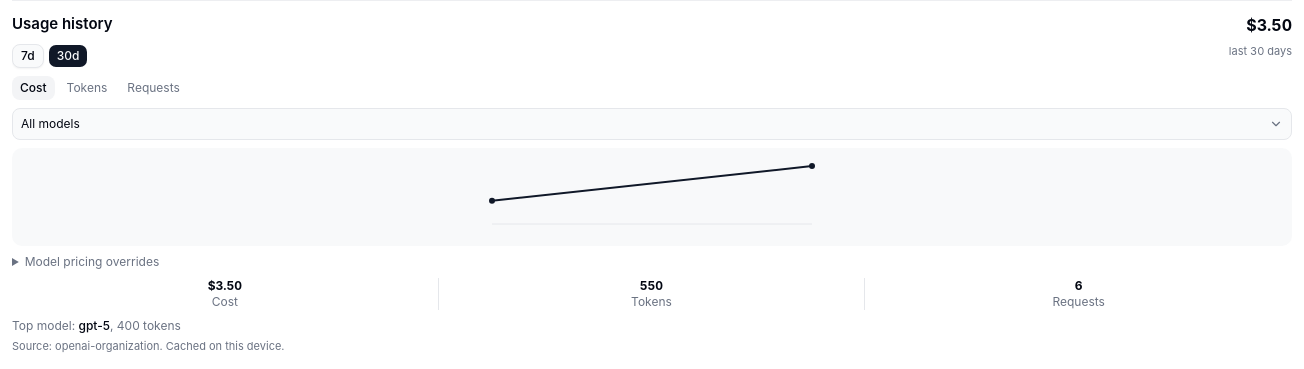
Test: UsageReport › shows a useful empty state and offers a longer period when the range has no activity
Click the button "7d". click: (28, 56)
box: x1=12 y1=44 x2=44 y2=68
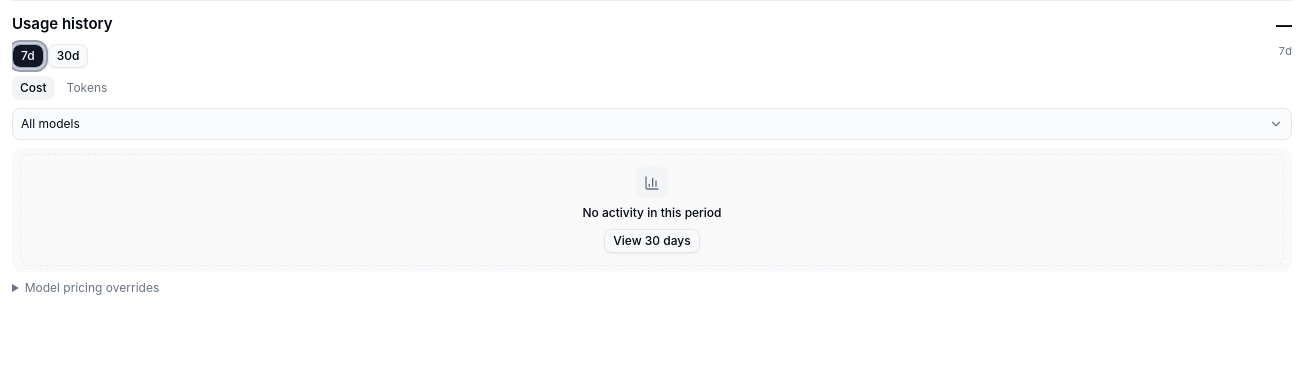
Check: the message "No activity in this period" is shown, box x1=582 y1=204 x2=722 y2=220
Click the button "View 30 days". click: (652, 240)
box: x1=604 y1=228 x2=700 y2=252
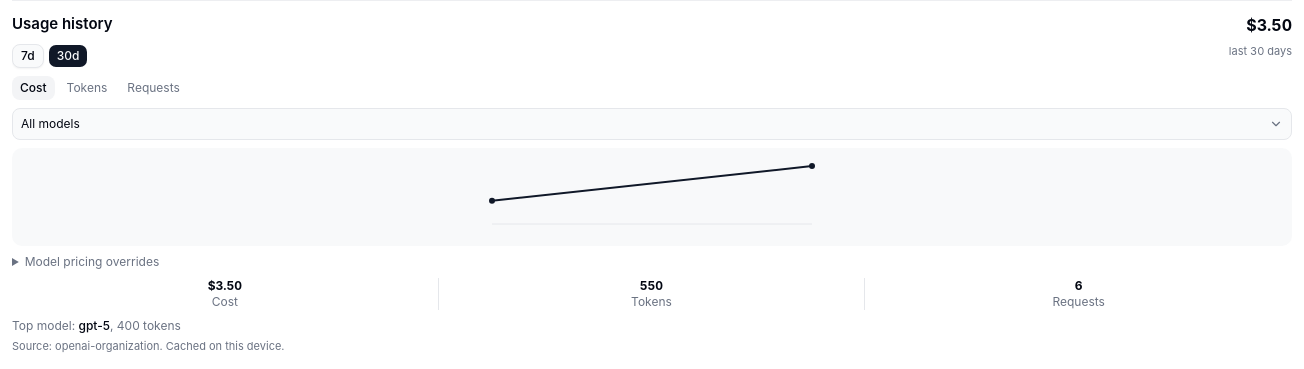
Check: the text "No activity in this period" is gone
